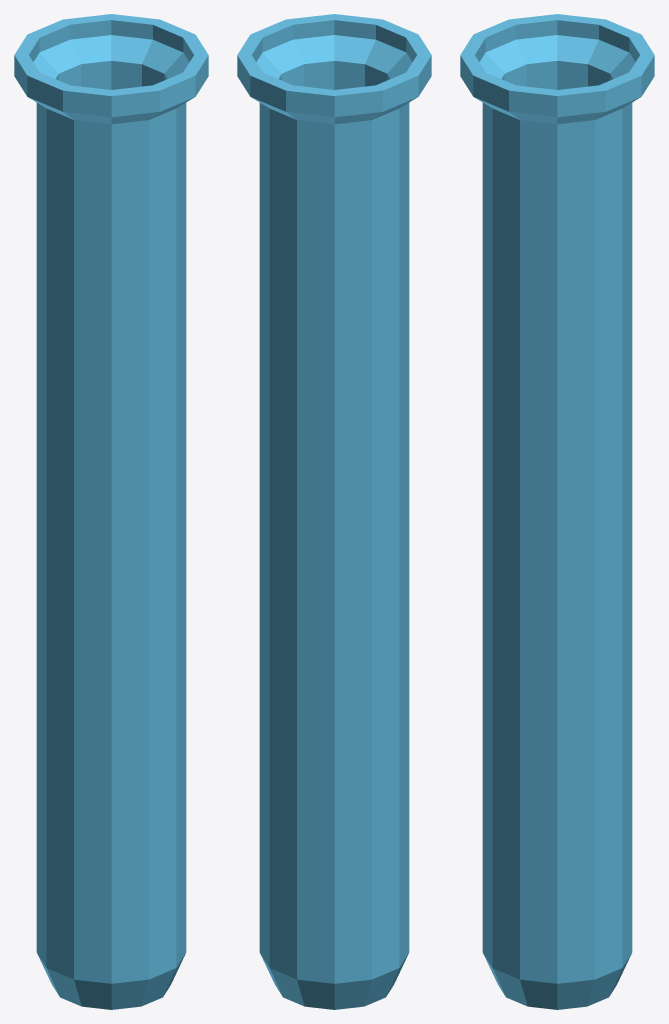
File: vial.fbx
3 renders of one model, left to right at view 1: azimuth 30°, elevation 25°; view 2: azimuth 150°, elevation 25°; view 3: azimuth 270°, elevation 25°, orthographic.
Parts seen in each view (by area): view 1: Vial; view 2: Vial; view 3: Vial.
Boxes of the visible parts, box(x1,y1,x2,y2) form: Vial: box(14, 14, 208, 1009); Vial: box(237, 14, 431, 1009); Vial: box(460, 14, 654, 1009).
Bounding box in the file's own units: 3.89 × 20.83 × 3.89.
Materials: 1 (1 with a texture image).
